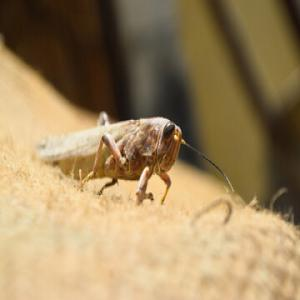locust: (29, 106, 202, 194)
